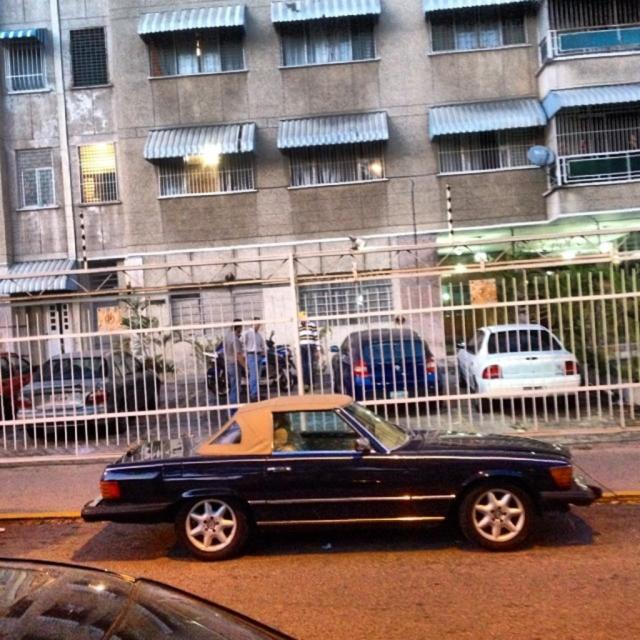car: (77, 392, 602, 563)
